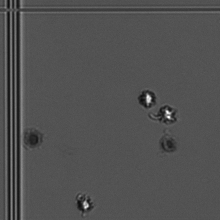Dead Cell: (158, 129, 181, 156), (22, 126, 44, 150)
Living Cell: (75, 190, 97, 212), (159, 102, 176, 125), (138, 87, 155, 109)
